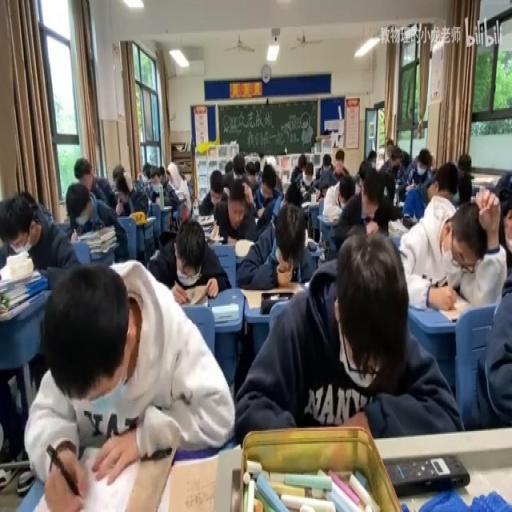calculator: (22, 441, 177, 512), (163, 451, 222, 512), (0, 263, 49, 319), (240, 284, 302, 310), (435, 292, 471, 322), (77, 223, 114, 242), (210, 302, 238, 324), (234, 236, 256, 258), (90, 246, 115, 259), (470, 174, 496, 186), (206, 222, 220, 242), (186, 297, 209, 309), (272, 193, 282, 219), (196, 213, 214, 225), (174, 189, 186, 199), (143, 216, 156, 225), (159, 203, 172, 212), (405, 182, 414, 192), (301, 198, 312, 206), (304, 280, 310, 289)
paper: (234, 229, 458, 442), (2, 188, 104, 458), (461, 240, 510, 430), (235, 200, 315, 292), (149, 210, 228, 293), (399, 149, 437, 215), (73, 155, 116, 209), (320, 164, 355, 224), (126, 184, 156, 253), (366, 193, 402, 246), (166, 161, 191, 220), (197, 168, 226, 218), (328, 220, 358, 258), (380, 142, 406, 185), (110, 162, 134, 205), (491, 170, 512, 208), (262, 158, 282, 193), (283, 180, 303, 208), (230, 154, 248, 184), (456, 172, 472, 205), (290, 153, 306, 185), (20, 189, 38, 211), (456, 152, 472, 174), (357, 158, 371, 183), (300, 183, 315, 202), (133, 176, 146, 194), (158, 165, 167, 186), (141, 164, 152, 180), (334, 151, 344, 165), (247, 174, 258, 186), (366, 149, 376, 162), (322, 155, 331, 169), (428, 154, 435, 172), (225, 158, 233, 173), (253, 160, 260, 176), (166, 175, 172, 188), (386, 142, 392, 154)
person: (386, 454, 470, 496), (402, 214, 416, 228), (307, 239, 318, 252)
